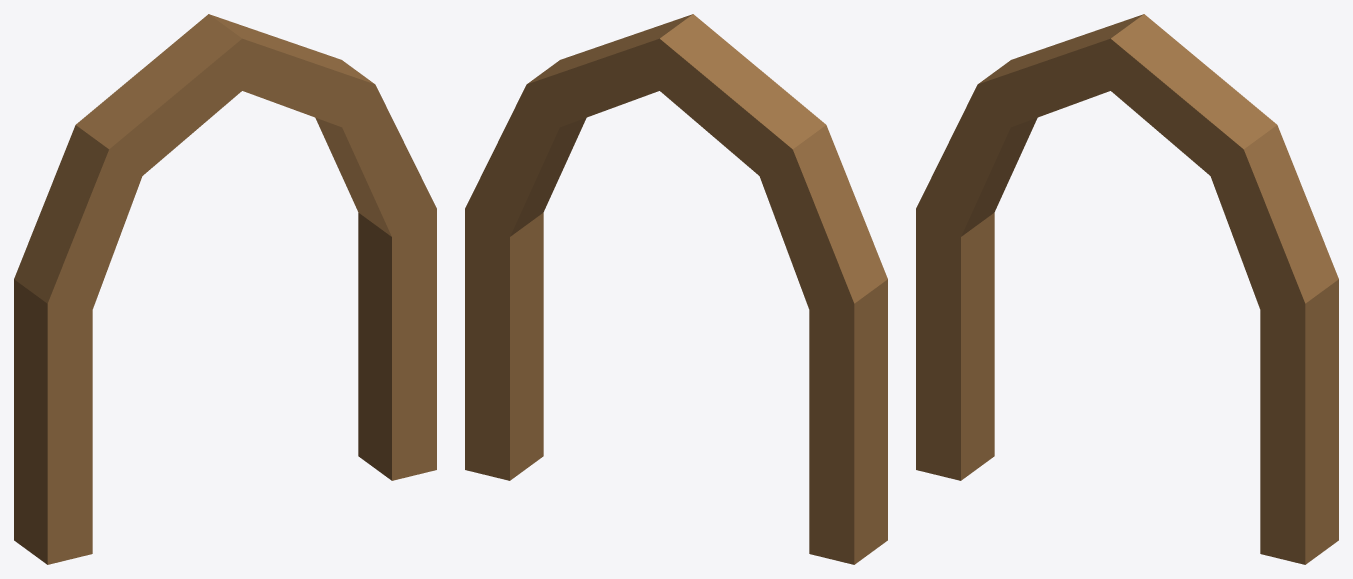
File: PirateCove_WreckRibArch_Simple.glb
The picture shows the model from 3 angles, left to right: view 1: azimuth 30°, elevation 25°; view 2: azimuth 150°, elevation 25°; view 3: azimuth 330°, elevation 25°; orthographic projection.
Parts seen in each view (by area): view 1: PirateCove_WreckRibArch_Simple; view 2: PirateCove_WreckRibArch_Simple; view 3: PirateCove_WreckRibArch_Simple.
Boxes of the visible parts, box(x1,y1,x2,y2) form: PirateCove_WreckRibArch_Simple: box(14, 14, 436, 564); PirateCove_WreckRibArch_Simple: box(465, 14, 887, 564); PirateCove_WreckRibArch_Simple: box(916, 14, 1338, 564).
Bounding box in the file's own units: 2.34 × 2.75 × 0.35.
